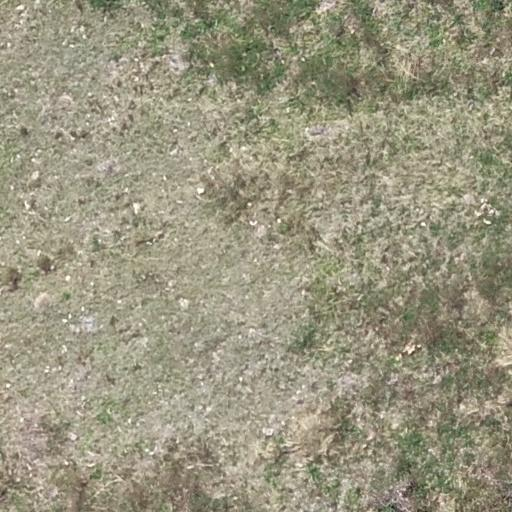stone: (248, 218, 270, 236), (33, 292, 52, 310), (128, 199, 145, 214), (177, 297, 190, 310), (195, 185, 207, 197), (29, 170, 41, 182), (261, 426, 275, 436), (67, 432, 78, 442), (248, 327, 258, 338), (169, 146, 179, 156), (474, 208, 484, 218), (15, 4, 26, 12), (482, 218, 492, 226), (23, 200, 31, 210), (64, 274, 72, 282), (62, 344, 68, 354), (249, 220, 257, 226), (301, 289, 307, 297), (168, 280, 174, 288), (276, 217, 282, 224), (273, 244, 280, 250), (420, 221, 426, 227), (246, 202, 252, 208), (208, 62, 214, 68), (238, 376, 244, 382), (116, 298, 122, 304)
